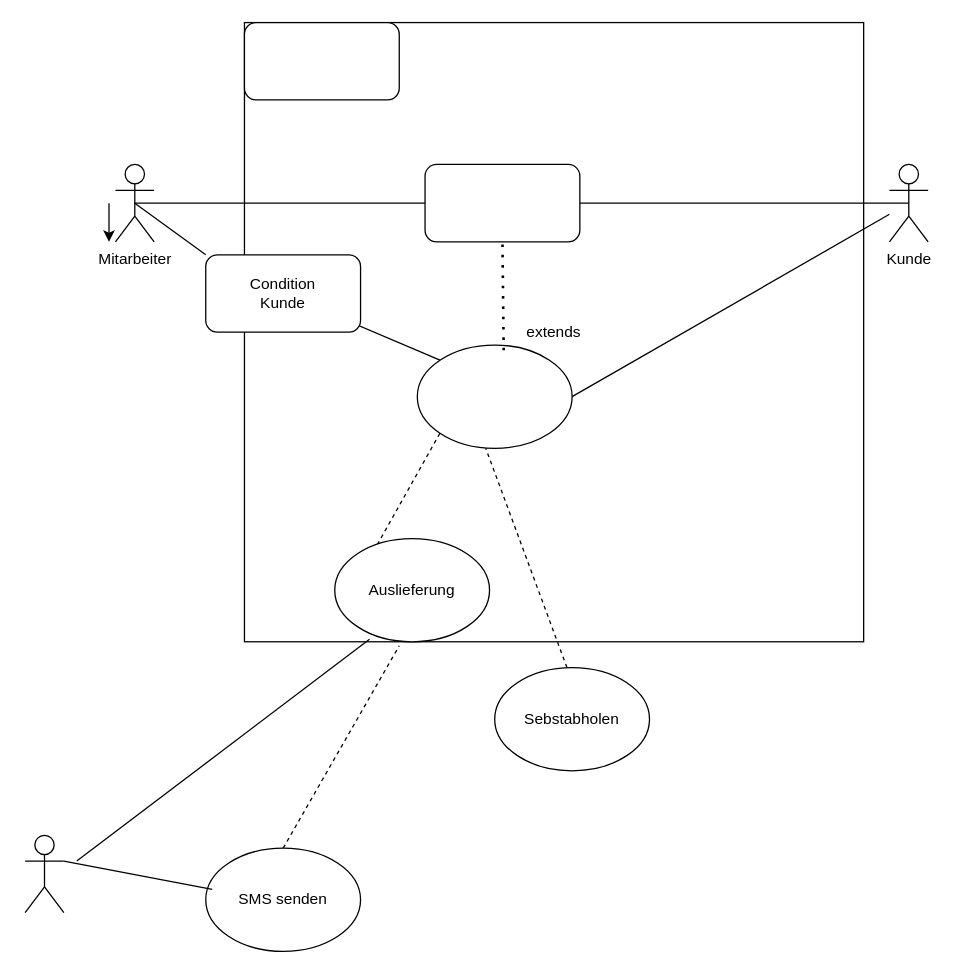
The diagram is 953 pixels wide and 974 high, and some of its shapes have lost their labels. The shapes that lost their labels are listed below. From the top down, each one's centre as x and y in pixels, then its label:
At pixel 321 60: "Pizzeria".
At pixel 502 202: "Bestellenanruf".
At pixel 494 396: "Kundendaten erfassen".
At pixel 44 873: "Fahrer".
